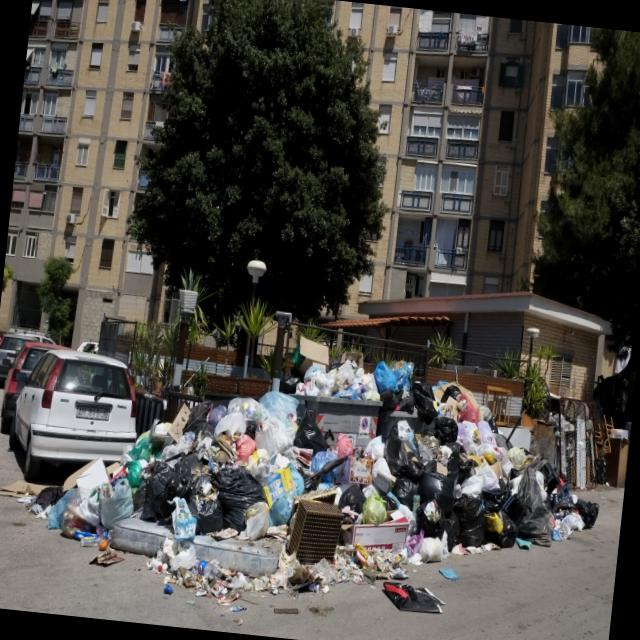garbage: (46, 322, 612, 636)
